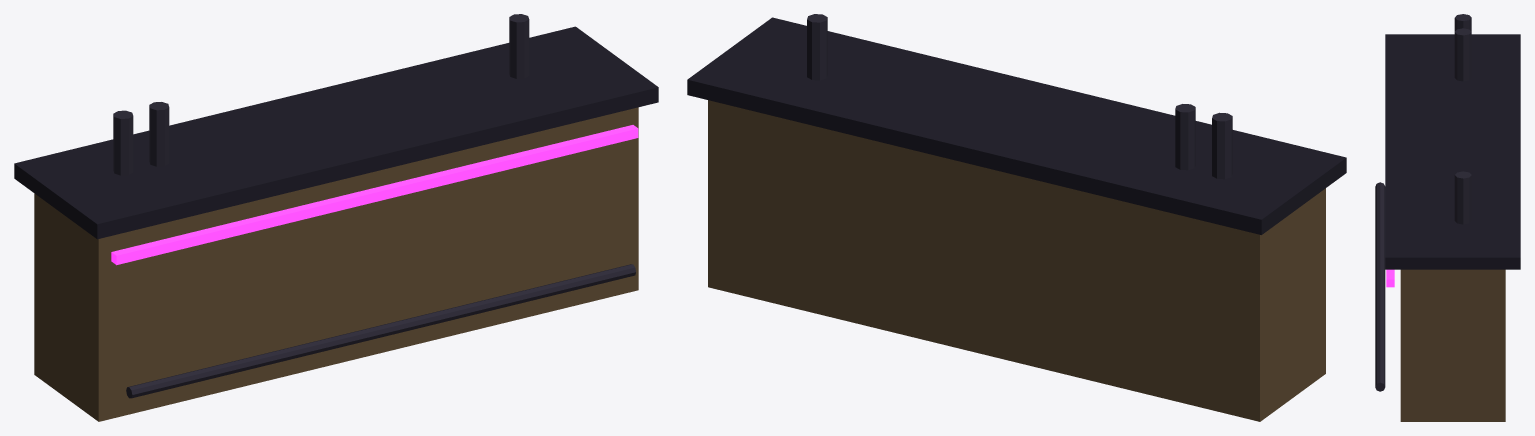
The model's file is bar-counter.glb.
The picture shows the model from 3 angles, left to right: view 1: azimuth 30°, elevation 25°; view 2: azimuth 150°, elevation 25°; view 3: azimuth 270°, elevation 25°; orthographic projection. The views are drawn at different scales.
Visible parts, largest first — view 1: bar-counter; view 2: bar-counter; view 3: bar-counter.
Part boxes in pixels (x1=…): bar-counter: x1=14, y1=14, x2=658, y2=421; bar-counter: x1=687, y1=14, x2=1346, y2=421; bar-counter: x1=1375, y1=14, x2=1520, y2=421.
Bounding box in the file's own units: 3.12 × 1.4 × 0.86.
